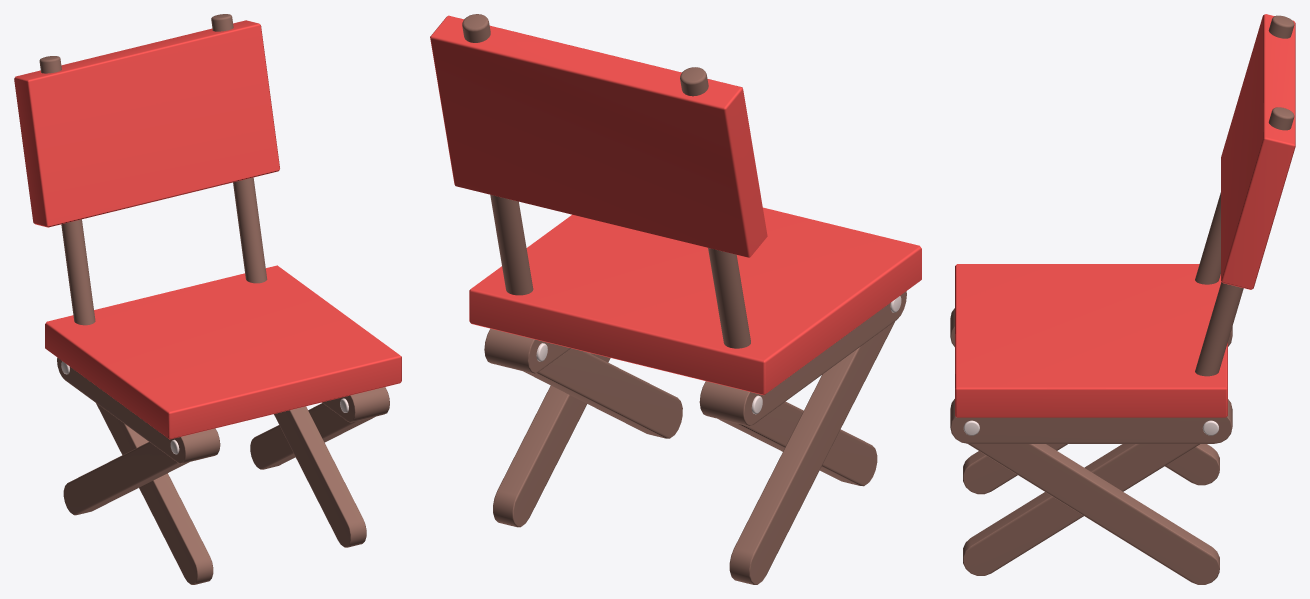
File: Town_13_Chair_1.glb
3 views of the same model, side by side, from view 1: azimuth 30°, elevation 25°; view 2: azimuth 150°, elevation 25°; view 3: azimuth 270°, elevation 25° (orthographic). The views are drawn at different scales.
Parts seen in each view (by area): view 1: Town_13_Chair_1; view 2: Town_13_Chair_1; view 3: Town_13_Chair_1.
Part boxes in pixels (x1=…): Town_13_Chair_1: x1=14, y1=14, x2=401, y2=584; Town_13_Chair_1: x1=430, y1=14, x2=921, y2=584; Town_13_Chair_1: x1=950, y1=14, x2=1295, y2=584.
Bounding box in the file's own units: 0.5775 × 1.01 × 0.6749.
Materials: 1 (1 with a texture image).
